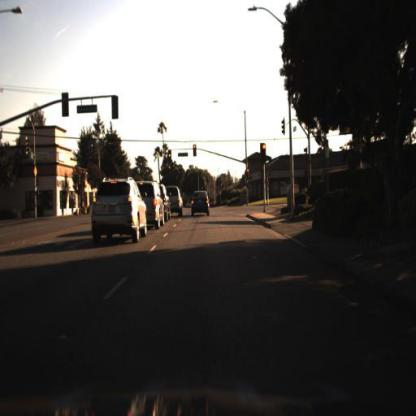car: (88, 175, 149, 254), (147, 179, 165, 232), (188, 187, 213, 222), (171, 185, 185, 219)
trafficLight: (166, 148, 174, 169)
trafficLight-Red: (259, 141, 269, 166), (260, 143, 268, 165), (192, 139, 200, 160), (243, 165, 251, 185)
